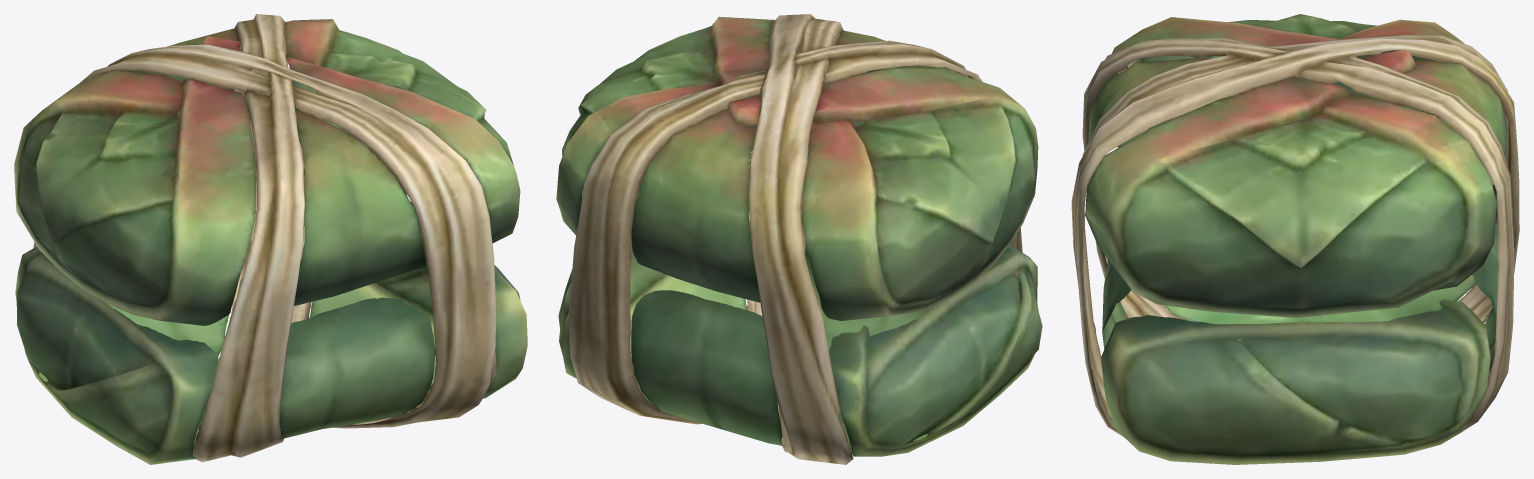
The picture shows the model from 3 angles, left to right: view 1: azimuth 30°, elevation 25°; view 2: azimuth 150°, elevation 25°; view 3: azimuth 270°, elevation 25°; orthographic projection. The views are drawn at different scales.
Parts seen in each view (by area): view 1: SM_Wrapped_Leaf_Package_01_LOD0; view 2: SM_Wrapped_Leaf_Package_01_LOD0; view 3: SM_Wrapped_Leaf_Package_01_LOD0.
Part boxes in pixels (<box>): SM_Wrapped_Leaf_Package_01_LOD0: <box>14,14,527,464</box>; SM_Wrapped_Leaf_Package_01_LOD0: <box>556,14,1042,464</box>; SM_Wrapped_Leaf_Package_01_LOD0: <box>1071,14,1519,464</box>.
Size of the model in its own units: 0.3946 by 0.3121 by 0.351.
1 material, 1 textured.
